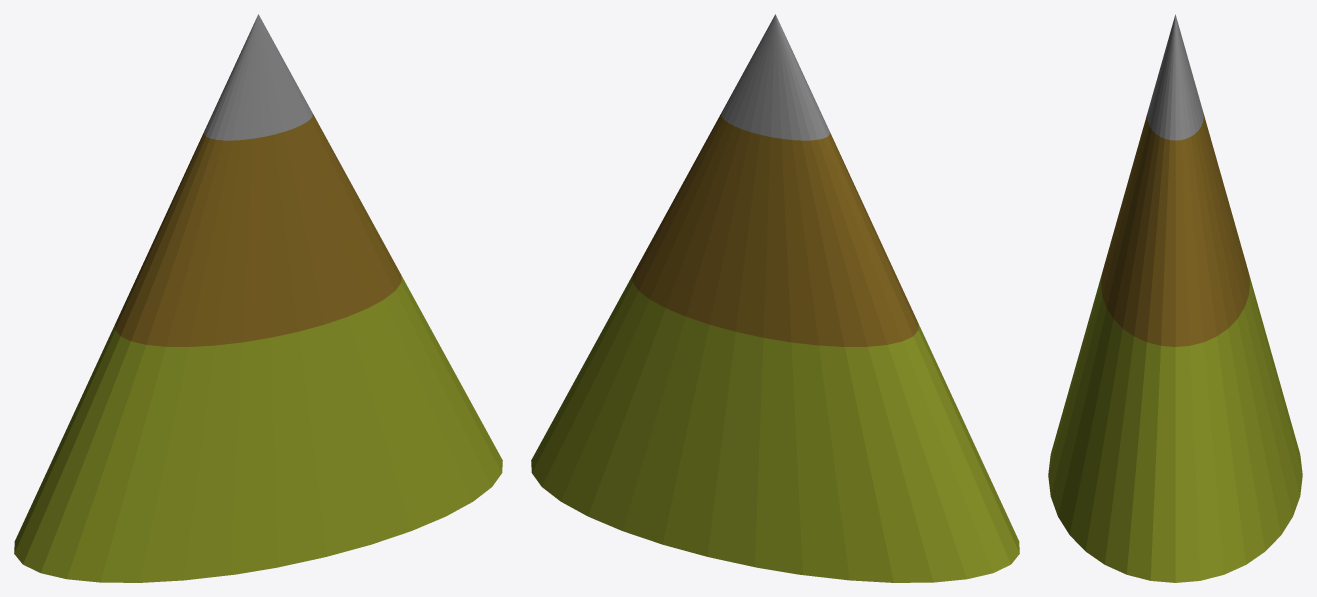
File: CandyCorn1.fbx
3 renders of one model, left to right at view 1: azimuth 30°, elevation 25°; view 2: azimuth 150°, elevation 25°; view 3: azimuth 270°, elevation 25°, orthographic. The views are drawn at different scales.
Parts seen in each view (by area): view 1: Cone; view 2: Cone; view 3: Cone.
Boxes of the visible parts, x1,y1,x2,y2 form: Cone: (14, 14, 502, 582); Cone: (531, 14, 1019, 582); Cone: (1048, 14, 1302, 582).
Size of the model in its own units: 194 by 198 by 97.14.
